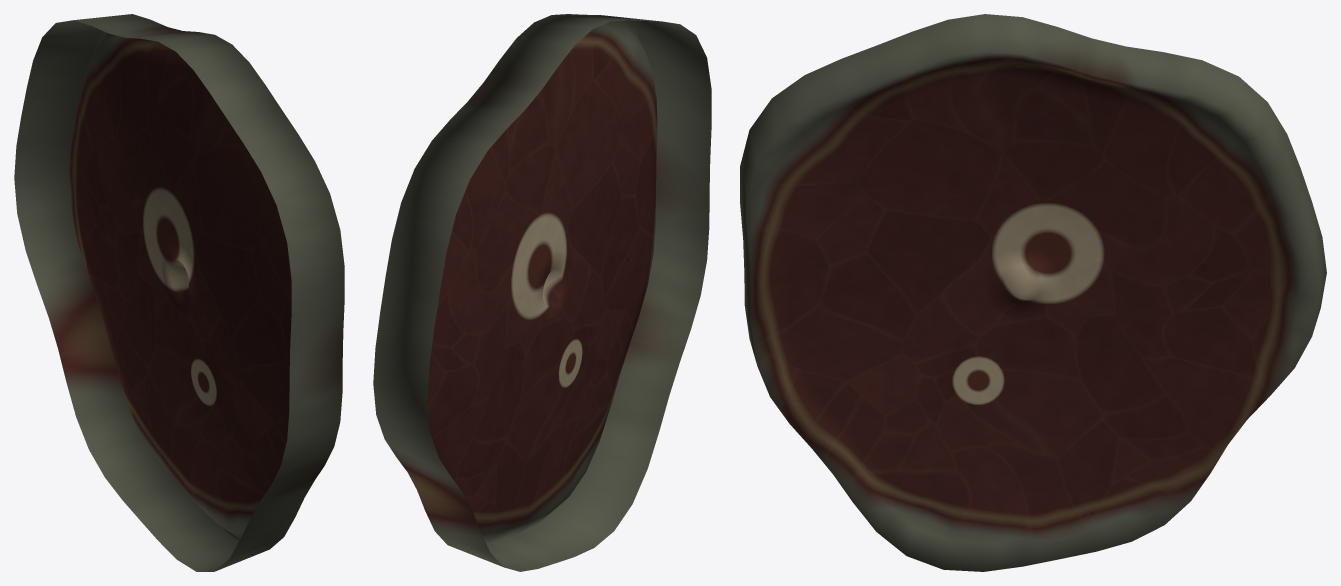
File: SM_WoundCap_Calf_337.fbx
The picture shows the model from 3 angles, left to right: view 1: azimuth 30°, elevation 25°; view 2: azimuth 150°, elevation 25°; view 3: azimuth 270°, elevation 25°; orthographic projection. The views are drawn at different scales.
Parts seen in each view (by area): view 1: SM_WoundCap_Calf_337; view 2: SM_WoundCap_Calf_337; view 3: SM_WoundCap_Calf_337.
Part boxes in pixels (left/top/right/bottom): SM_WoundCap_Calf_337: left=14, top=14, right=344, bottom=571; SM_WoundCap_Calf_337: left=373, top=14, right=711, bottom=571; SM_WoundCap_Calf_337: left=740, top=14, right=1326, bottom=571.
Bounding box in the file's own units: 0.016 × 0.1349 × 0.1361.
1 material, 1 textured.
